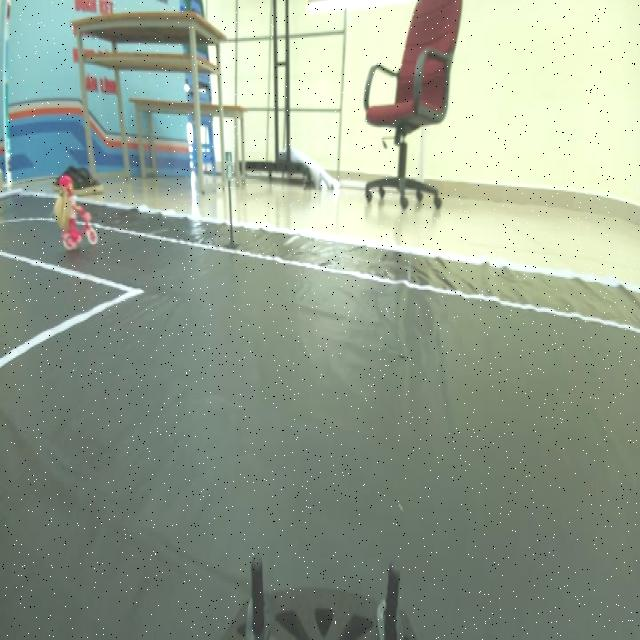pedestrian: (50, 168, 99, 252)
